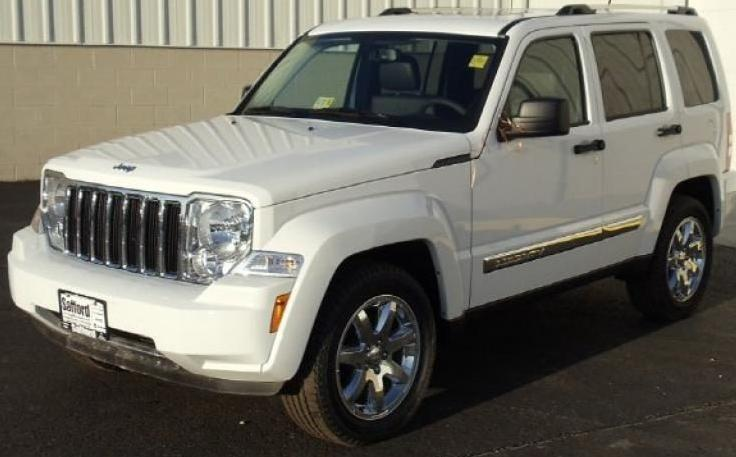front_view: (3, 146, 315, 404)
headlight: (180, 190, 302, 331)
side_glass: (489, 18, 726, 147)
